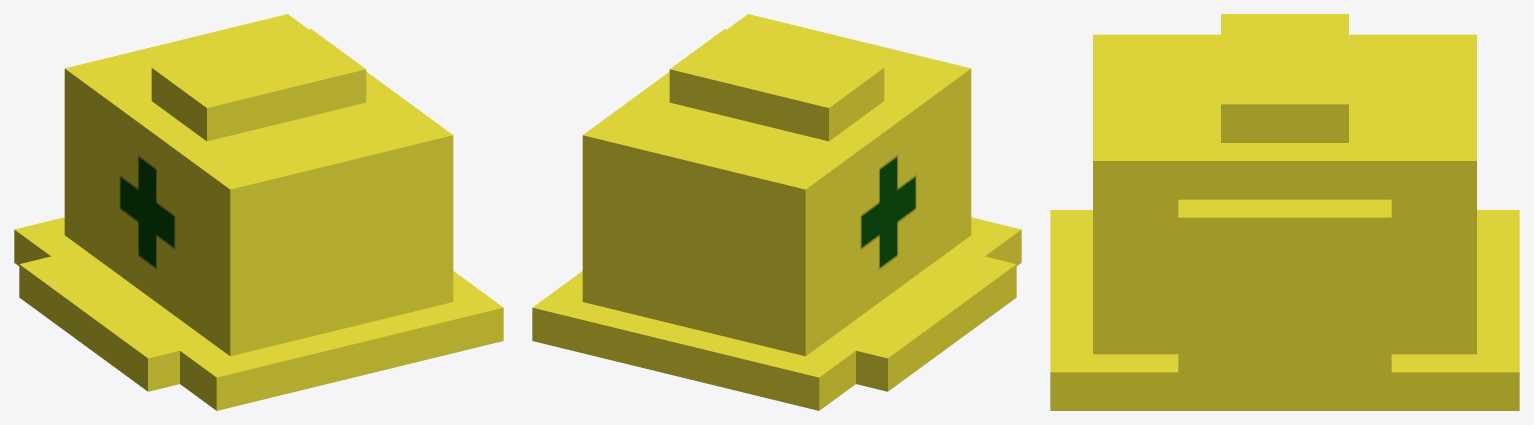
Rendered from chapter2_helmet.fbx.
The picture shows the model from 3 angles, left to right: view 1: azimuth 30°, elevation 25°; view 2: azimuth 150°, elevation 25°; view 3: azimuth 270°, elevation 25°; orthographic projection. The views are drawn at different scales.
Visible parts, largest first — view 1: Matrix; view 2: Matrix; view 3: Matrix.
Boxes of the visible parts, left/top/right/bottom form: Matrix: left=14, top=14, right=503, bottom=410; Matrix: left=532, top=14, right=1021, bottom=410; Matrix: left=1050, top=14, right=1519, bottom=410.
Size of the model in its own units: 10 by 7 by 11.
